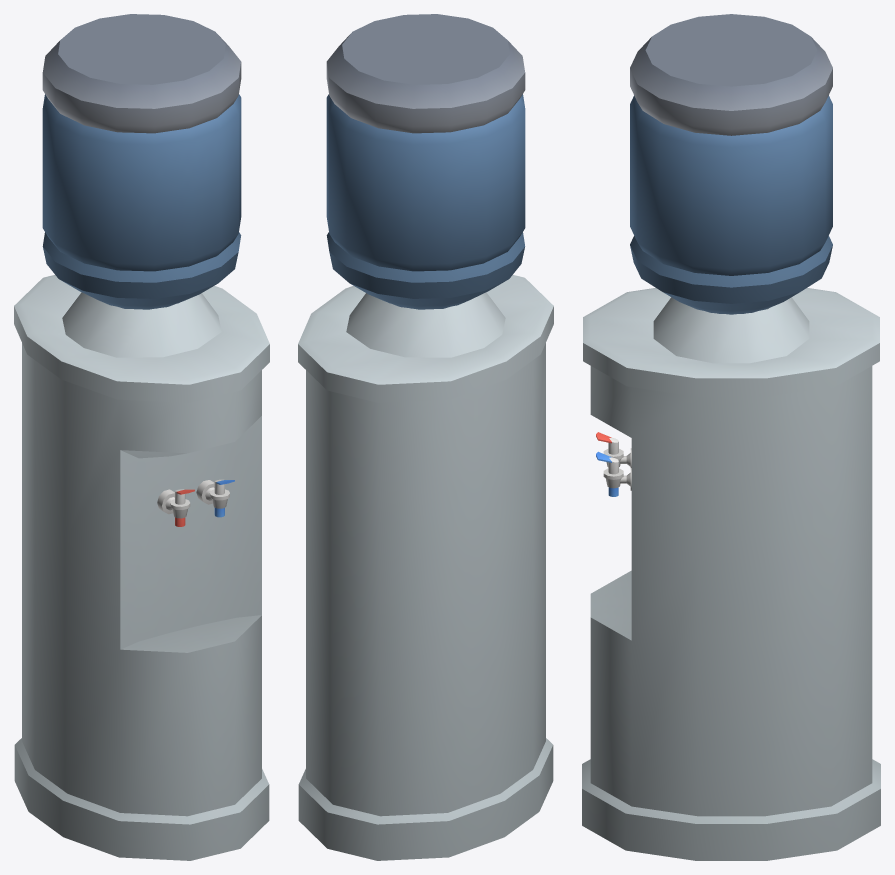
Rendered from WaterCooler.fbx.
3 renders of one model, left to right at view 1: azimuth 30°, elevation 25°; view 2: azimuth 150°, elevation 25°; view 3: azimuth 270°, elevation 25°, orthographic.
Parts seen in each view (by area): view 1: WaterCooler; view 2: WaterCooler; view 3: WaterCooler.
Boxes of the visible parts, x1,y1,x2,y2 form: WaterCooler: (14, 14, 269, 860); WaterCooler: (298, 14, 553, 860); WaterCooler: (582, 14, 880, 860).
Size of the model in its own units: 38.94 by 143 by 50.77.
